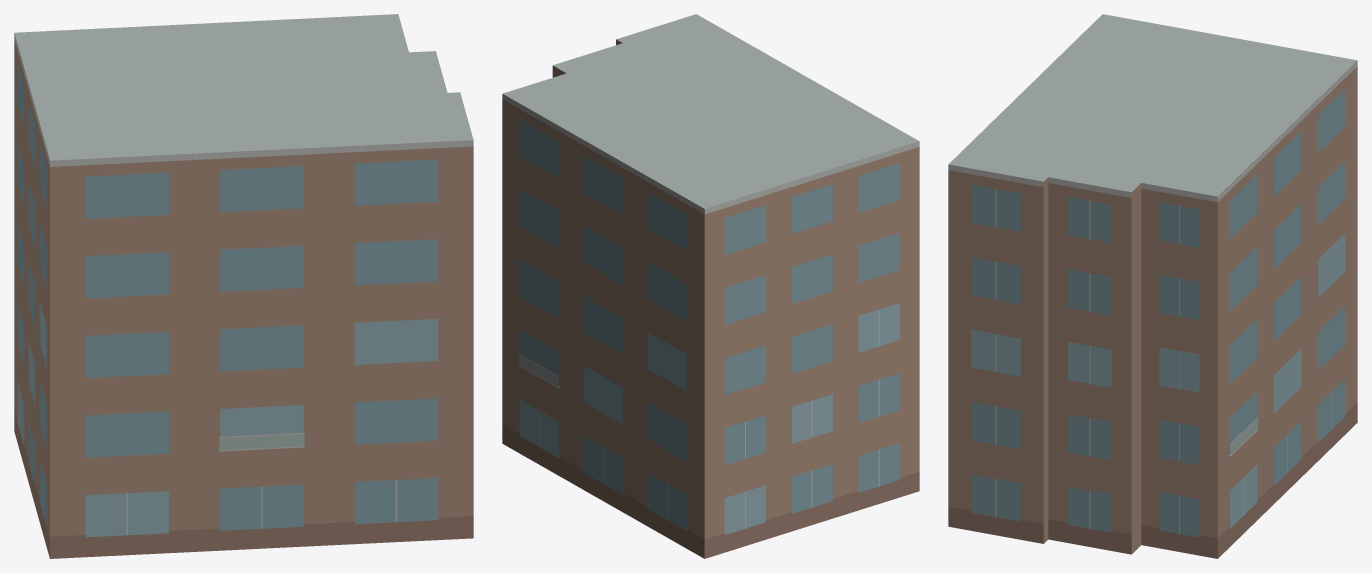
The model's file is survey-upis-32762457.glb.
3 views of the same model, side by side, from view 1: azimuth 30°, elevation 25°; view 2: azimuth 150°, elevation 25°; view 3: azimuth 270°, elevation 25° (orthographic). The views are drawn at different scales.
Visible parts, largest first — view 1: survey-upis-32762457.tmp; view 2: survey-upis-32762457.tmp; view 3: survey-upis-32762457.tmp.
Part boxes in pixels (x1=…): survey-upis-32762457.tmp: x1=14, y1=14, x2=473, y2=558; survey-upis-32762457.tmp: x1=502, y1=14, x2=919, y2=558; survey-upis-32762457.tmp: x1=948, y1=14, x2=1357, y2=558.
Size of the model in its own units: 16.72 by 15.45 by 15.83.
